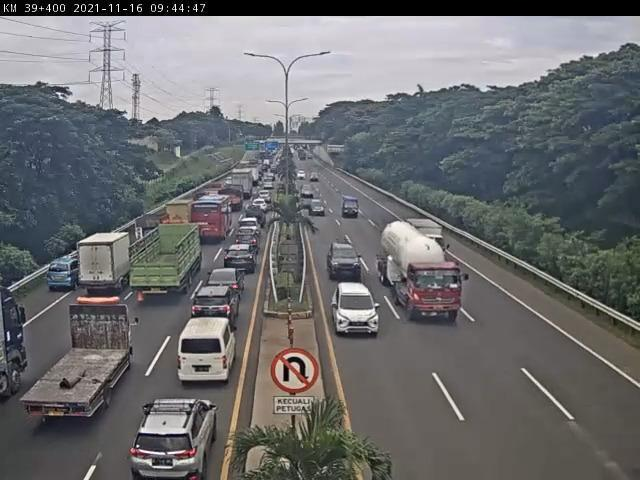bus: (189, 196, 233, 243)
car: (129, 397, 217, 480), (175, 320, 235, 383), (330, 282, 381, 338), (189, 288, 237, 336), (325, 241, 363, 279), (46, 257, 85, 290), (207, 268, 248, 299), (224, 247, 256, 276), (234, 232, 261, 252), (237, 217, 262, 238)
truck: (23, 298, 143, 422), (377, 225, 469, 321), (129, 224, 203, 303), (79, 235, 132, 300), (408, 218, 448, 258), (165, 198, 198, 233), (131, 211, 169, 241)
